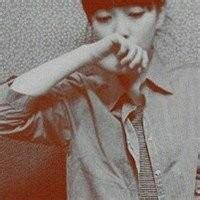face: (89, 1, 156, 73)
